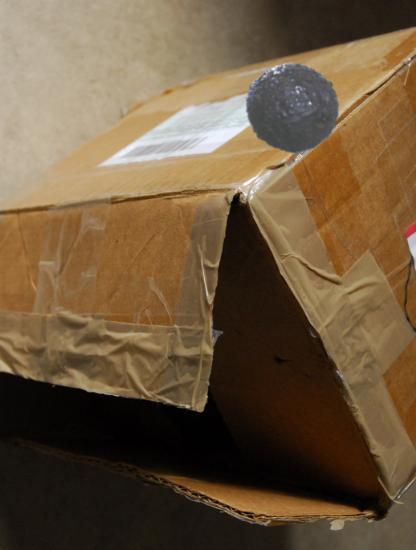Avocado: (239, 60, 340, 161)
